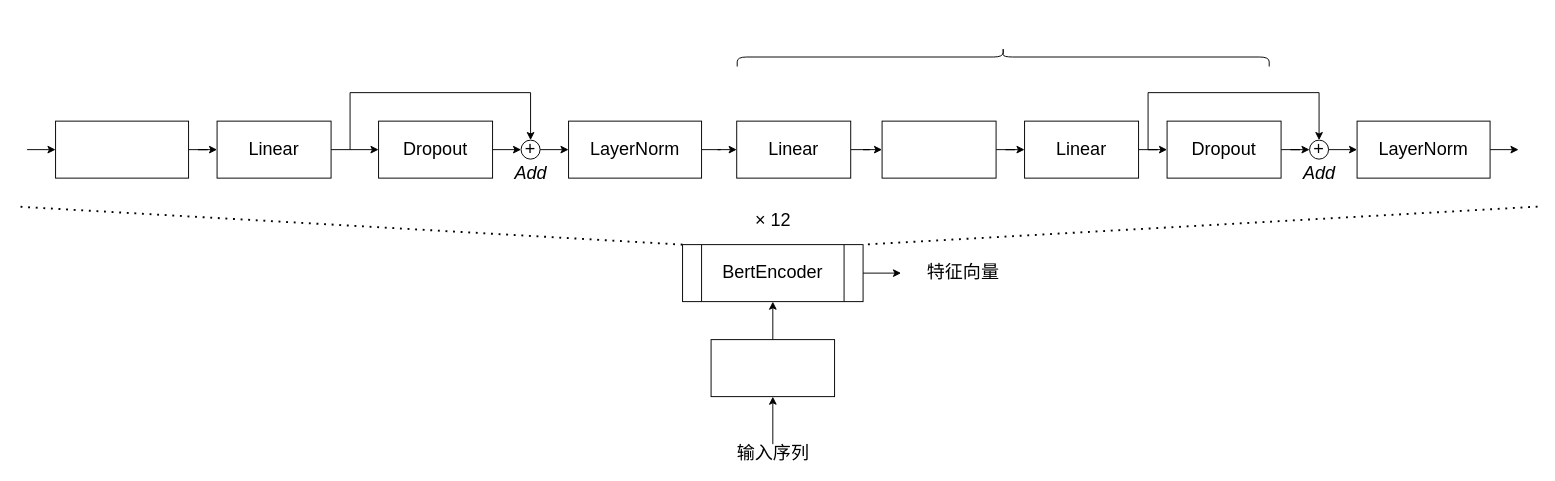
Image size: 1555x481. Some labels were removed from this diagram. The box of each missing label's shape, as (x1, y1, x2, y2) in pixels:
Embedding: (710, 339, 835, 397)
Feed Forward: (736, 47, 1269, 66)
Gelu: (881, 120, 996, 178)
SelfAttention: (55, 120, 189, 178)
